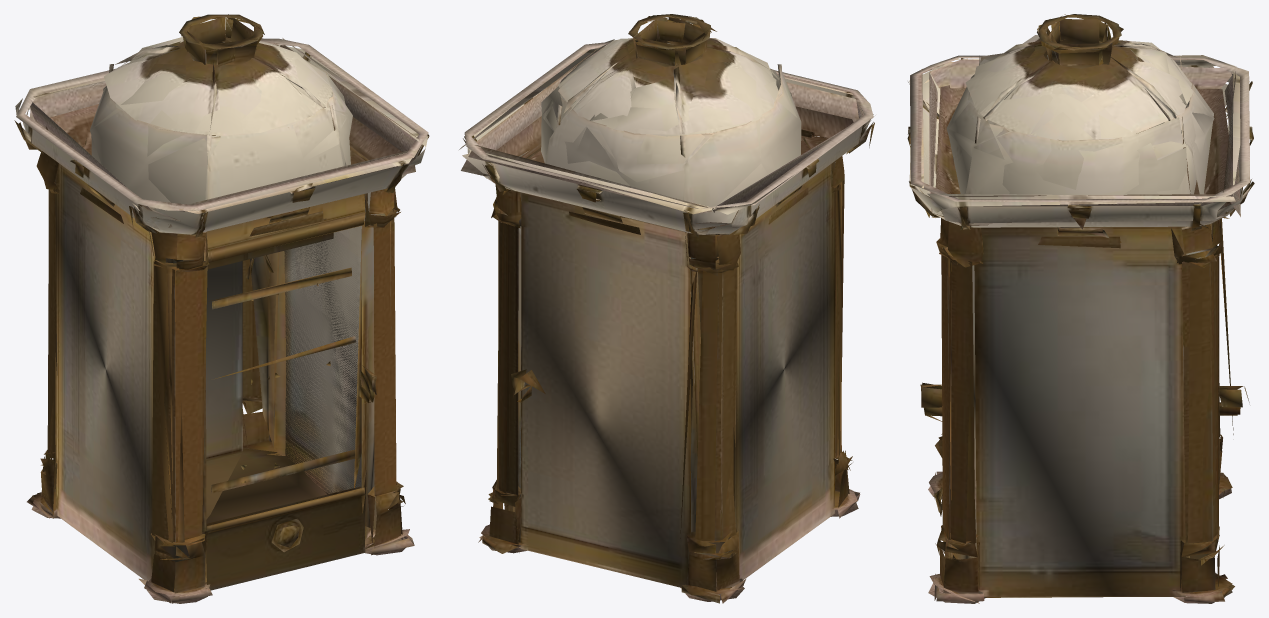
The model's file is tower-lift.lod1.glb.
The picture shows the model from 3 angles, left to right: view 1: azimuth 30°, elevation 25°; view 2: azimuth 150°, elevation 25°; view 3: azimuth 270°, elevation 25°; orthographic projection. The views are drawn at different scales.
Parts seen in each view (by area): view 1: tower-lift_lod1; view 2: tower-lift_lod1; view 3: tower-lift_lod1.
Boxes of the visible parts, x1=… form: tower-lift_lod1: x1=14, y1=14, x2=429, y2=603; tower-lift_lod1: x1=459, y1=14, x2=875, y2=603; tower-lift_lod1: x1=907, y1=14, x2=1254, y2=603.
Size of the model in its own units: 1.91 by 3.02 by 1.86.
Materials: 1 (1 with a texture image).
